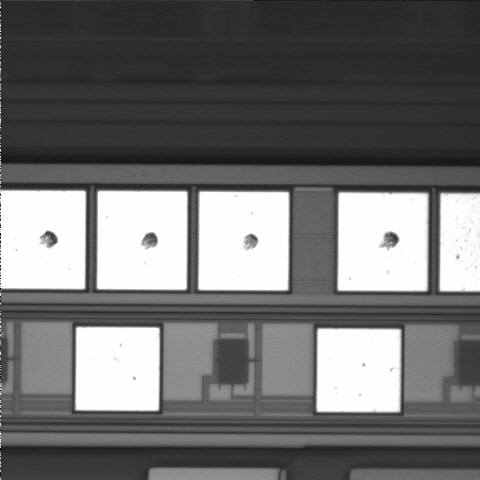pad: (97, 191, 187, 290), (199, 192, 289, 290), (338, 193, 428, 291), (76, 327, 159, 411), (317, 329, 401, 412)
